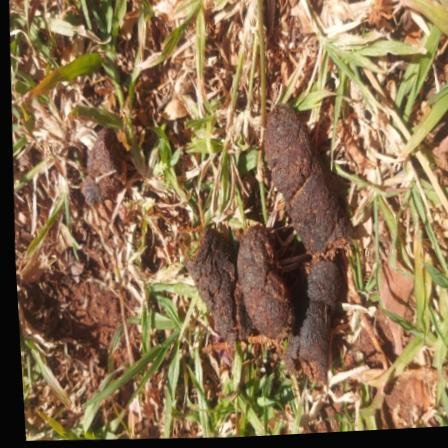dog-poop: (182, 101, 356, 379)
